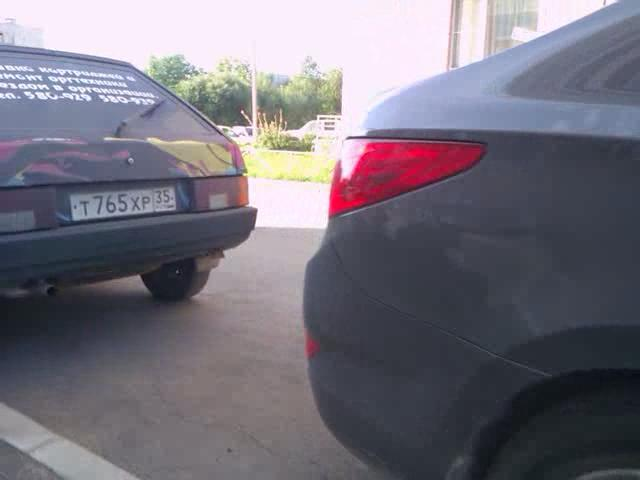car license plate: (67, 181, 180, 226)
